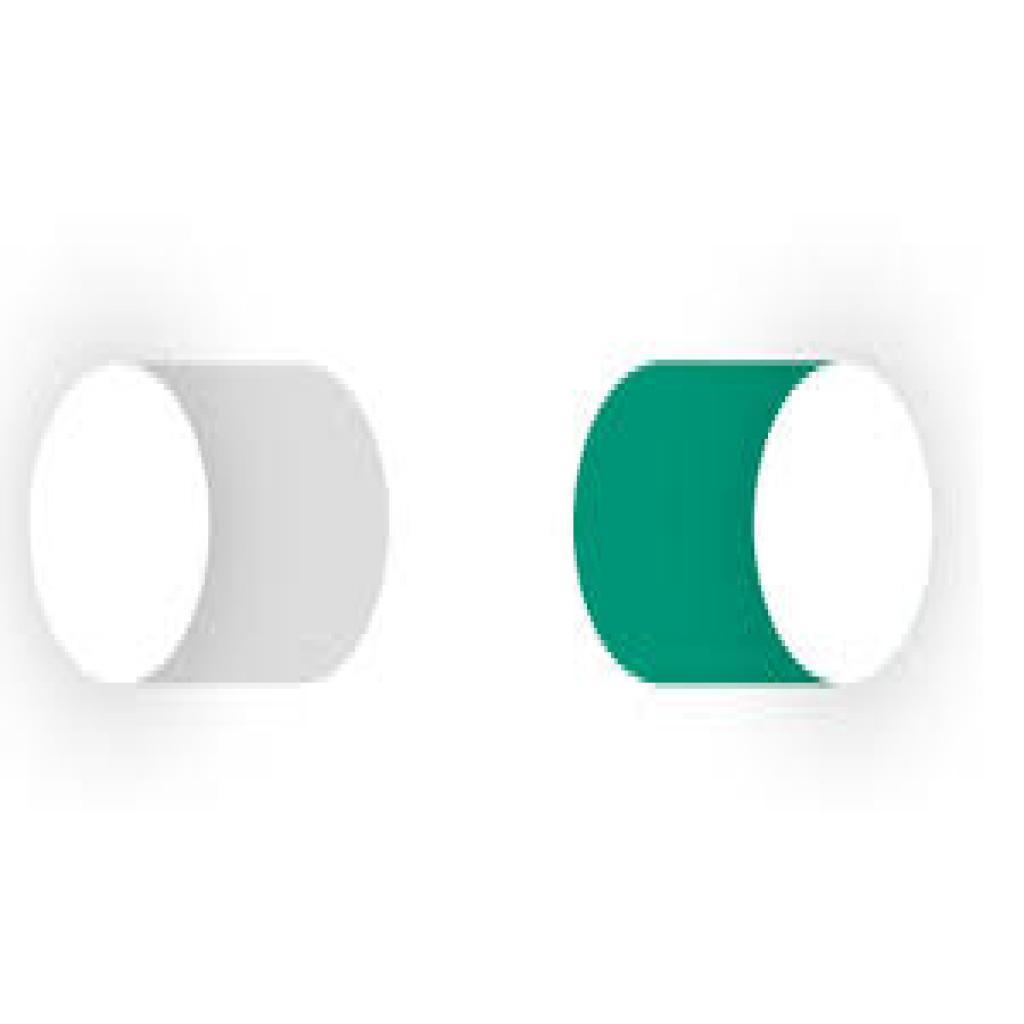switch: (570, 362, 938, 686), (21, 365, 384, 686)
